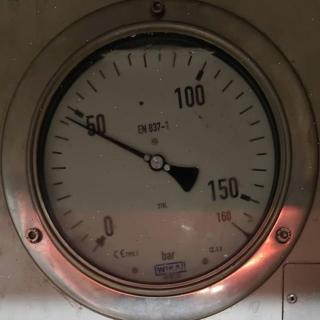gauge: (22, 19, 302, 301), (212, 203, 256, 245), (86, 219, 118, 254), (148, 153, 166, 171), (60, 111, 76, 125)
